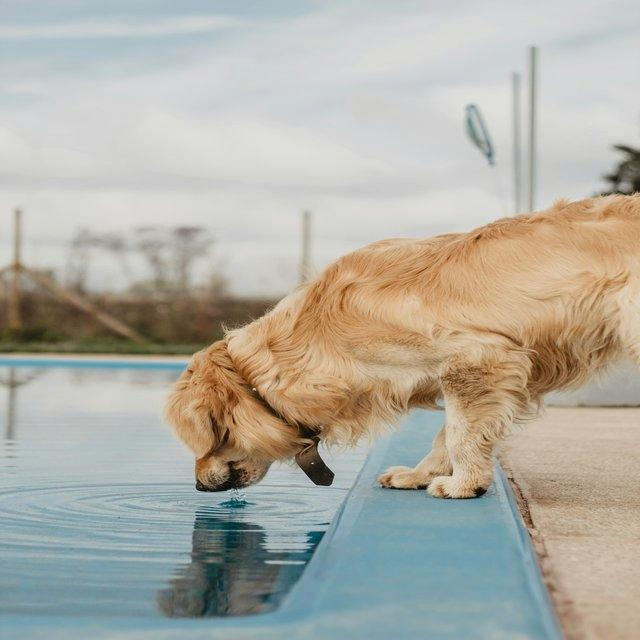retriever: (163, 190, 639, 499)
